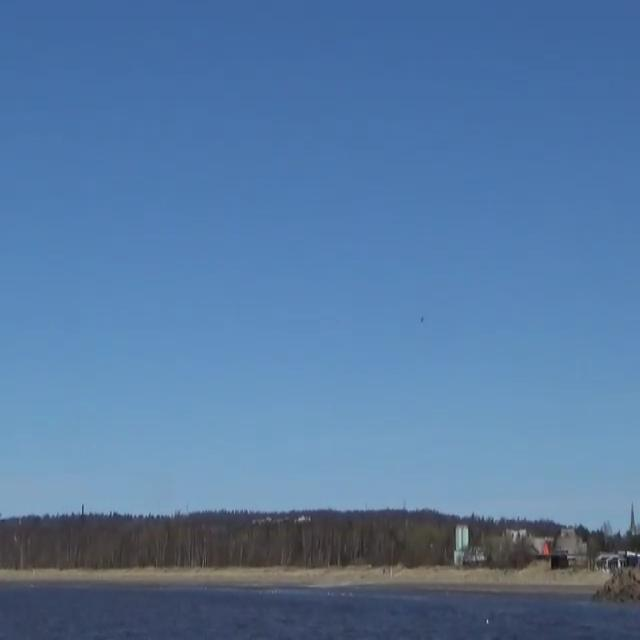Helicopter: (409, 300, 436, 336)
